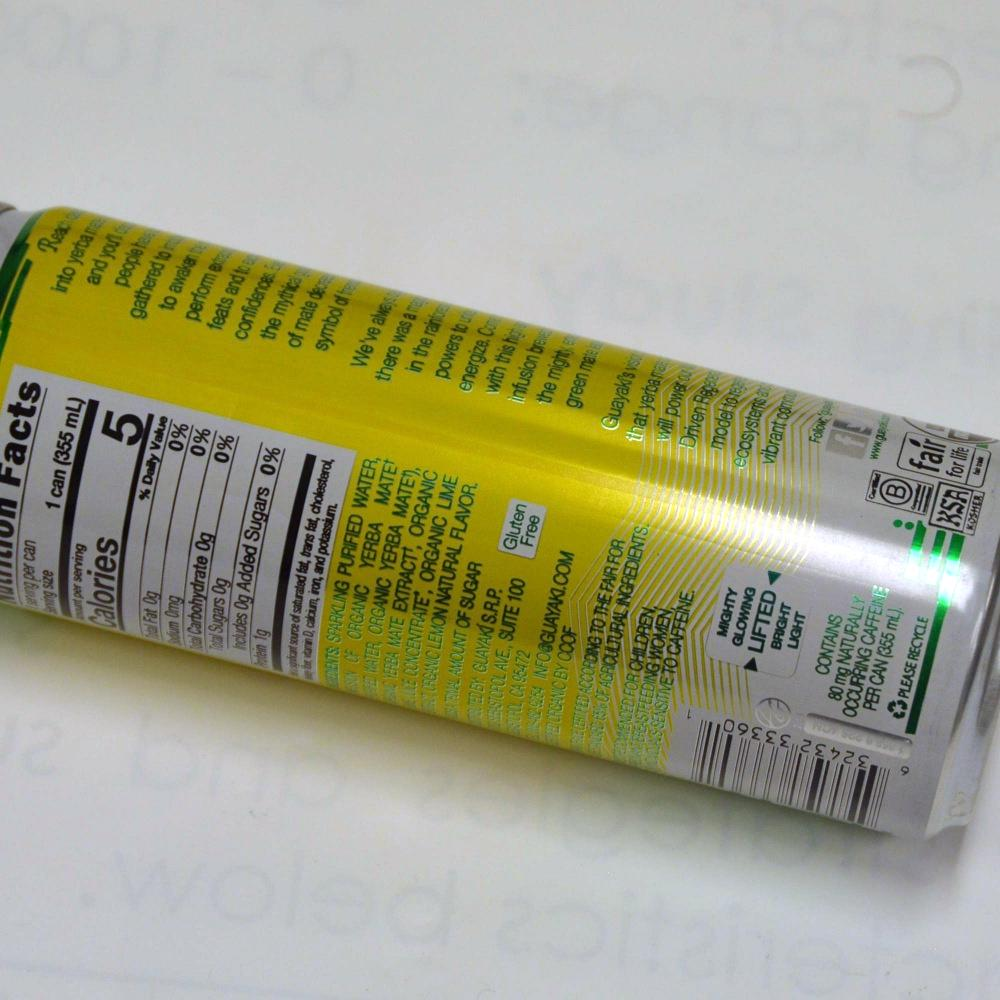Metal: (33, 138, 963, 895)
